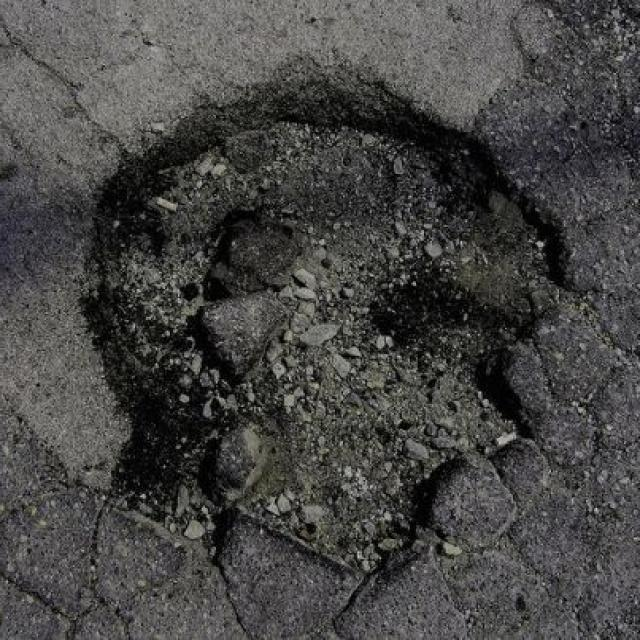pothole: (92, 62, 588, 586)
